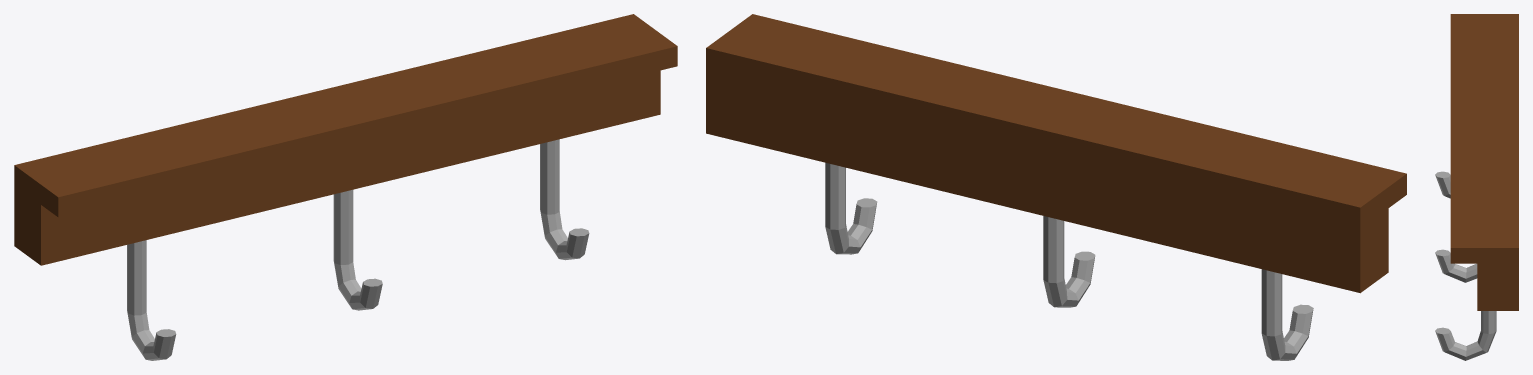
File: WallHanger.fbx
3 renders of one model, left to right at view 1: azimuth 30°, elevation 25°; view 2: azimuth 150°, elevation 25°; view 3: azimuth 270°, elevation 25°, orthographic. The views are drawn at different scales.
Visible parts, largest first — view 1: Prop_WallHanger_03; view 2: Prop_WallHanger_03; view 3: Prop_WallHanger_03.
Part boxes in pixels (box(x1,y1,x2,y2)): Prop_WallHanger_03: box(14, 14, 677, 360); Prop_WallHanger_03: box(706, 14, 1406, 360); Prop_WallHanger_03: box(1435, 14, 1518, 360).
Bounding box in the file's own units: 120 × 36.23 × 18.15.
Materials: 1 (1 with a texture image).
